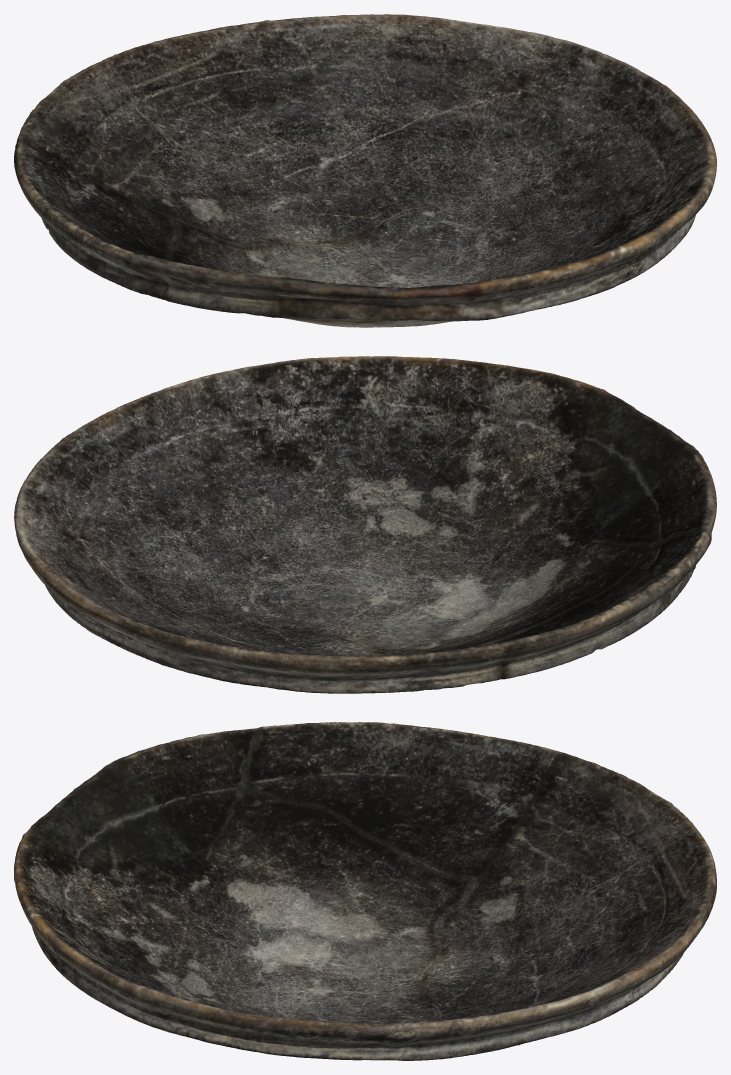
3 views of the same model, one above another, from view 1: azimuth 30°, elevation 25°; view 2: azimuth 150°, elevation 25°; view 3: azimuth 270°, elevation 25° (orthographic).
Visible parts, largest first — view 1: Mesh_0.002; view 2: Mesh_0.002; view 3: Mesh_0.002.
Part boxes in pixels (x1,y1,x2,y2): Mesh_0.002: (14,14,716,327); Mesh_0.002: (14,356,716,693); Mesh_0.002: (14,722,716,1060).
Size of the model in its own units: 0.29 by 0.0646 by 0.29.
Materials: 1 (1 with a texture image).
